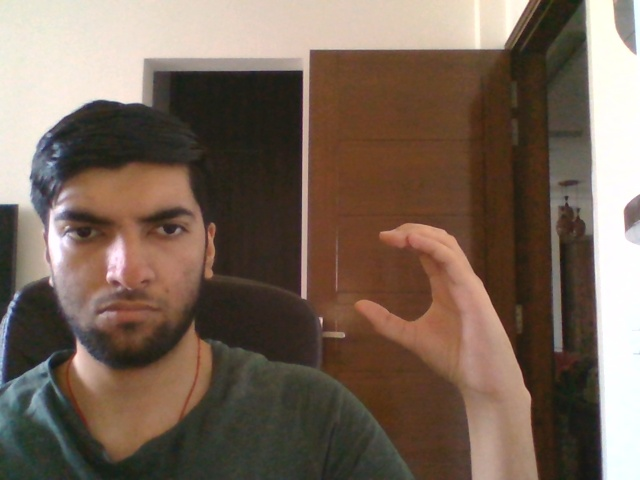LetterC: (353, 222, 531, 401)
